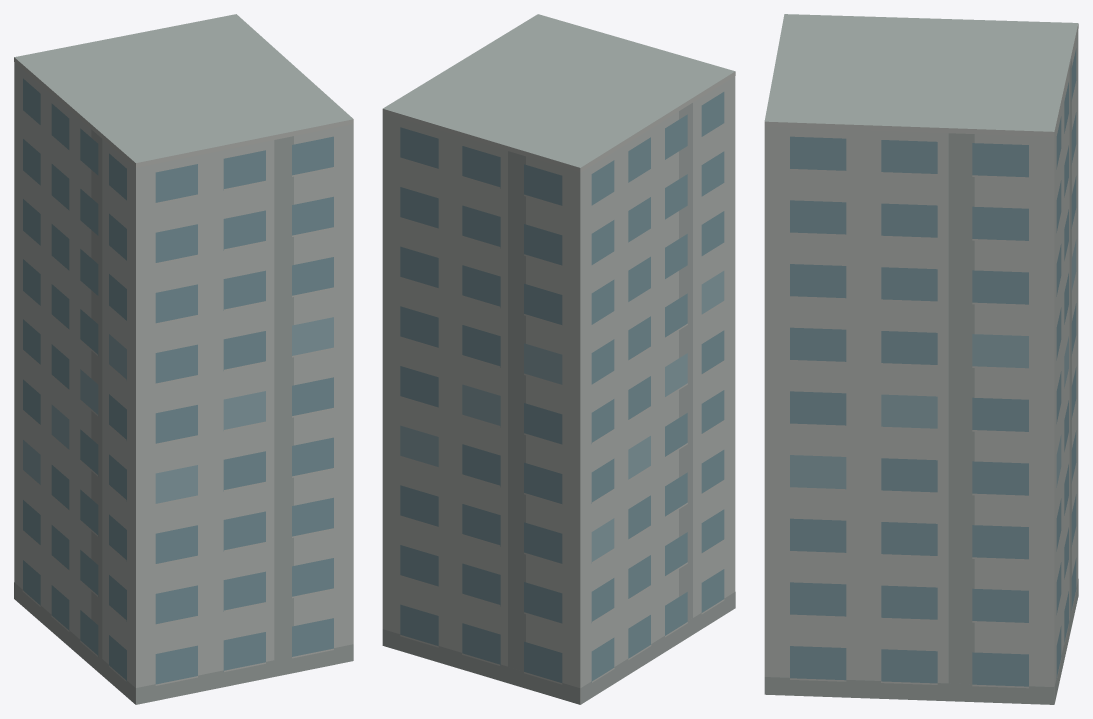
Rendered from survey-upis-32642828.glb.
3 renders of one model, left to right at view 1: azimuth 30°, elevation 25°; view 2: azimuth 150°, elevation 25°; view 3: azimuth 270°, elevation 25°, orthographic. The views are drawn at different scales.
Visible parts, largest first — view 1: survey-upis-32642828.tmp; view 2: survey-upis-32642828.tmp; view 3: survey-upis-32642828.tmp.
Part boxes in pixels (x1,y1,x2,y2): survey-upis-32642828.tmp: (14,14,353,704); survey-upis-32642828.tmp: (382,14,735,704); survey-upis-32642828.tmp: (764,14,1078,704).
Size of the model in its own units: 12.12 by 27.45 by 13.64.
